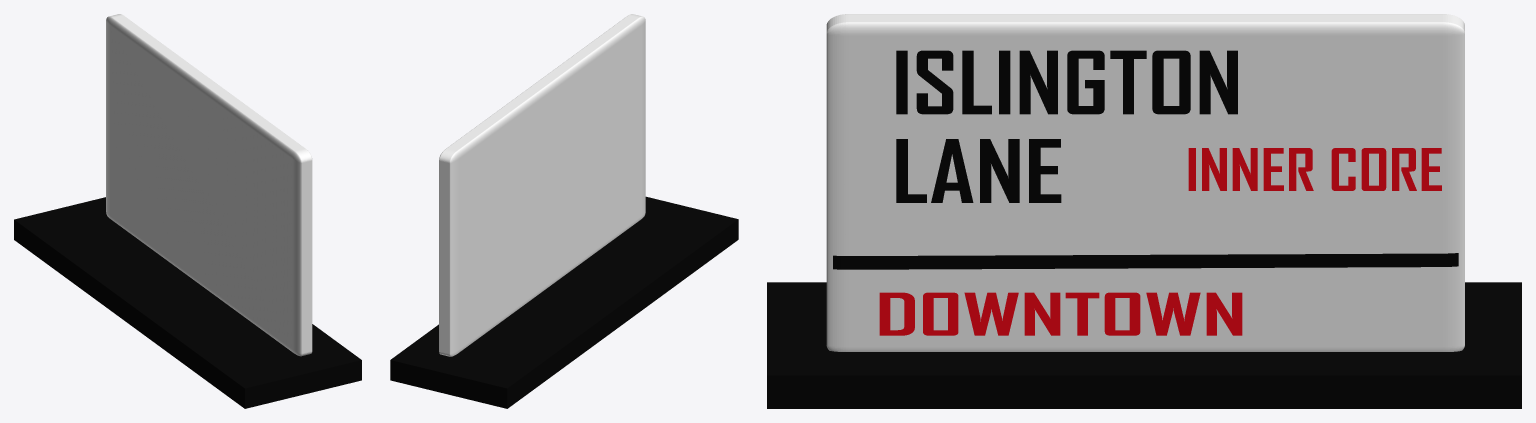
Rendered from uk_styled_street_sign_72.fbx.
The picture shows the model from 3 angles, left to right: view 1: azimuth 30°, elevation 25°; view 2: azimuth 150°, elevation 25°; view 3: azimuth 270°, elevation 25°; orthographic projection. The views are drawn at different scales.
Parts seen in each view (by area): view 1: Cube, Cube.001; view 2: Cube, Cube.001; view 3: Cube, Cube.001, Text, Text.002, Text.003, Text.001.
Boxes of the visible parts, bbox=[...] form: Cube: bbox=[106, 14, 312, 356]; Cube.001: bbox=[14, 197, 361, 408]; Cube: bbox=[439, 14, 645, 356]; Cube.001: bbox=[390, 196, 738, 408]; Cube: bbox=[826, 14, 1464, 351]; Cube.001: bbox=[767, 282, 1521, 408]; Text: bbox=[896, 50, 1237, 114]; Text.002: bbox=[879, 292, 1242, 335]; Text.003: bbox=[1188, 148, 1441, 190]; Text.001: bbox=[896, 139, 1061, 202].
Bounding box in the file's own units: 12 × 21.71 × 41.07.
